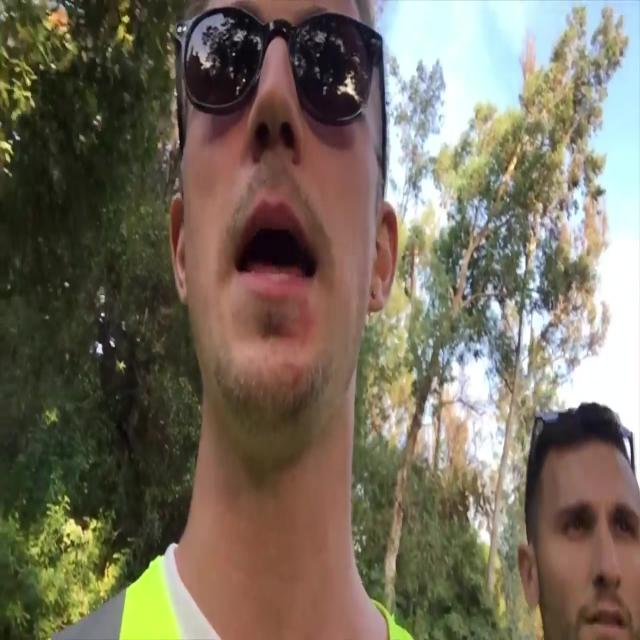Reflective-Jacket: (111, 547, 428, 640)
